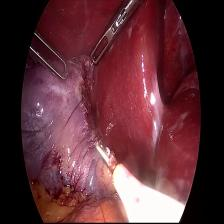Grasper: (89, 0, 142, 65), (28, 31, 68, 82)
Hook: (92, 139, 186, 223)
